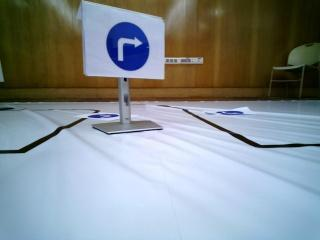right: (84, 2, 160, 78)
